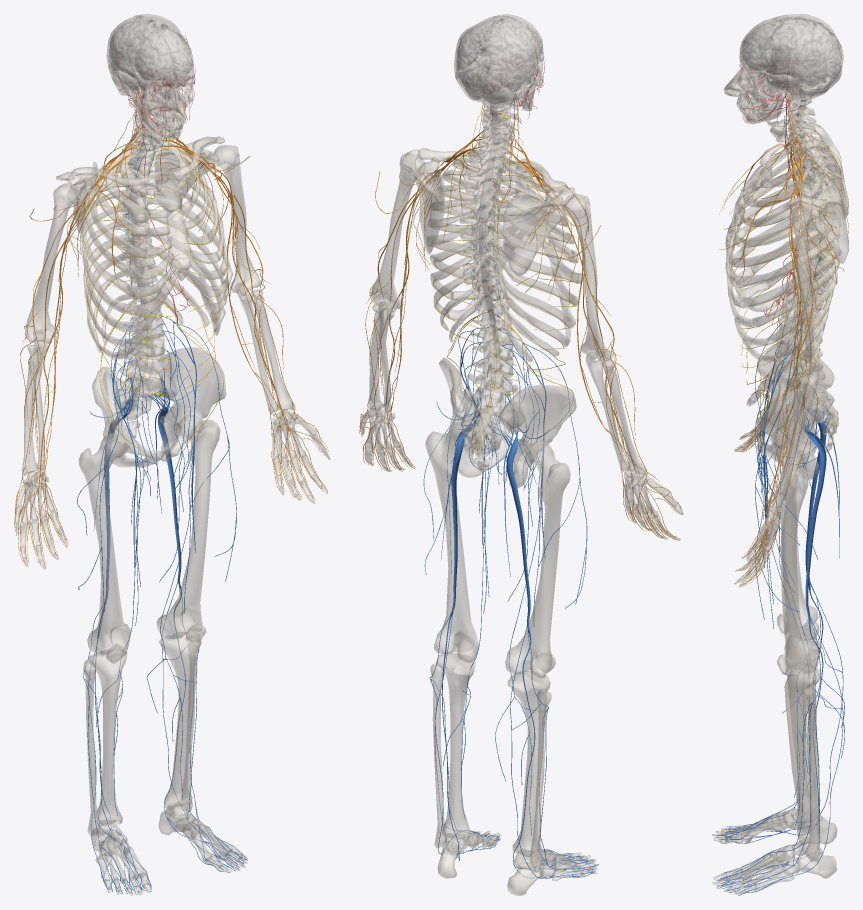
Rendered from sistema-periferico.glb.
3 views of the same model, side by side, from view 1: azimuth 30°, elevation 25°; view 2: azimuth 150°, elevation 25°; view 3: azimuth 270°, elevation 25° (orthographic). The views are drawn at different scales.
Parts seen in each view (by area): view 1: esqueleto, nervios-pierna, nervios-brazo, snc-referencia, nervios-raquideos, nervios-craneales; view 2: esqueleto, nervios-pierna, nervios-brazo, snc-referencia, nervios-raquideos; view 3: esqueleto, nervios-pierna, nervios-brazo, snc-referencia, nervios-raquideos, nervios-craneales.
Part boxes in pixels (x1,y1,x2,y2): esqueleto: (15,14,330,895); nervios-pierna: (77,185,247,894); nervios-brazo: (14,121,329,567); snc-referencia: (109,17,193,319); nervios-raquideos: (82,95,227,458); nervios-craneales: (113,36,195,317); esqueleto: (360,14,683,895); nervios-pierna: (423,195,598,878); nervios-brazo: (359,124,682,540); snc-referencia: (457,17,542,347); nervios-raquideos: (430,100,577,454); esqueleto: (712,14,848,894); nervios-pierna: (715,166,844,895); nervios-brazo: (719,120,846,586); snc-referencia: (742,17,841,330); nervios-raquideos: (729,92,848,452); nervios-craneales: (739,55,811,323).
Bounding box in the file's own units: 0.6682 × 1.7 × 0.2495.
